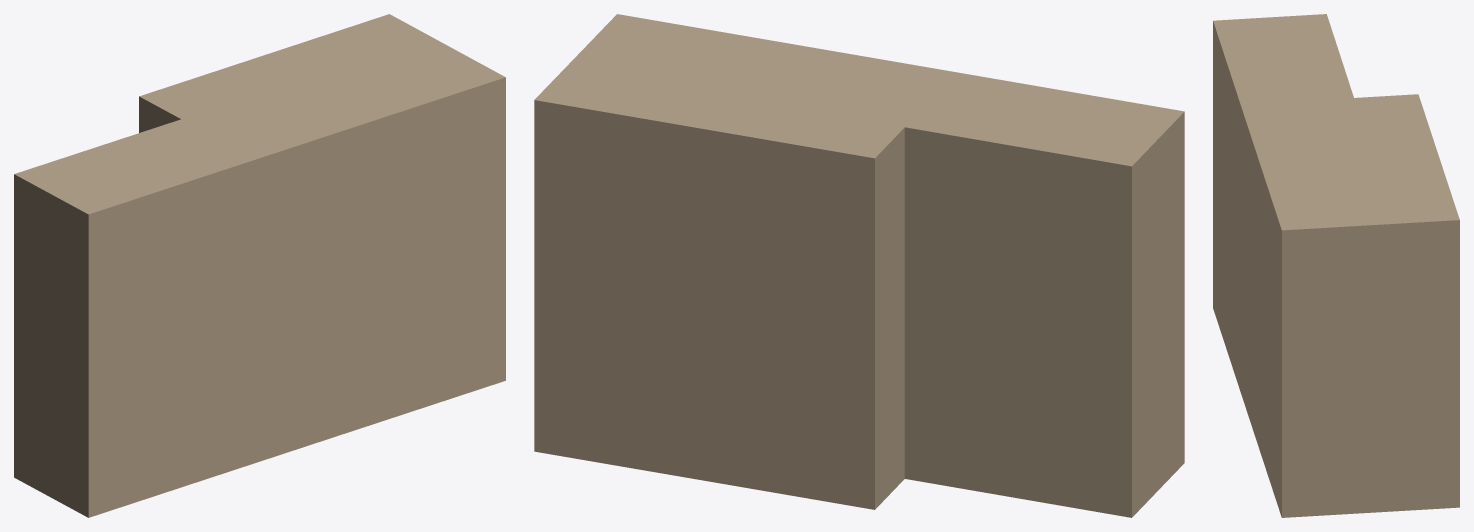
Rendered from bld_101562185.dae.
3 renders of one model, left to right at view 1: azimuth 30°, elevation 25°; view 2: azimuth 150°, elevation 25°; view 3: azimuth 270°, elevation 25°, orthographic. The views are drawn at different scales.
Parts seen in each view (by area): view 1: bld_101562185; view 2: bld_101562185; view 3: bld_101562185.
Boxes of the visible parts, x1,y1,x2,y2 form: bld_101562185: (14,14,505,517); bld_101562185: (534,14,1184,517); bld_101562185: (1213,14,1459,517).
Bounding box in the file's own units: 12.91 × 6.22 × 8.
